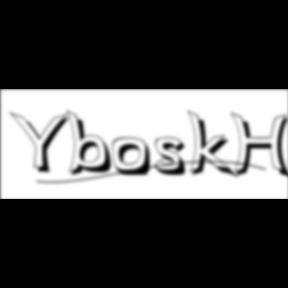Y: (9, 110, 76, 176)
b: (65, 109, 118, 179)
k: (188, 108, 240, 181)
o: (112, 137, 154, 179)
s: (154, 137, 194, 179)
